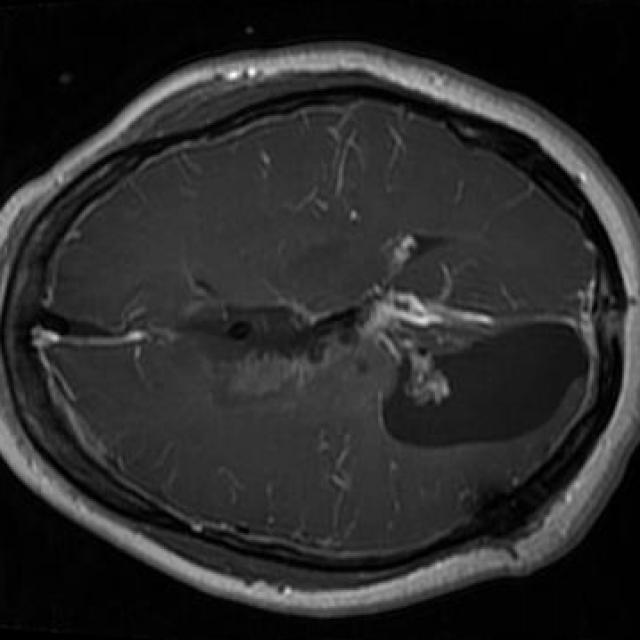glioma: (180, 291, 590, 446)
